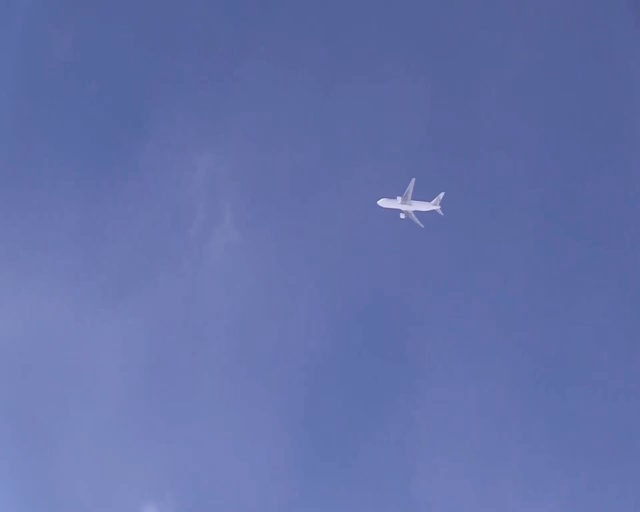AIRPLANE: (377, 177, 446, 227)
